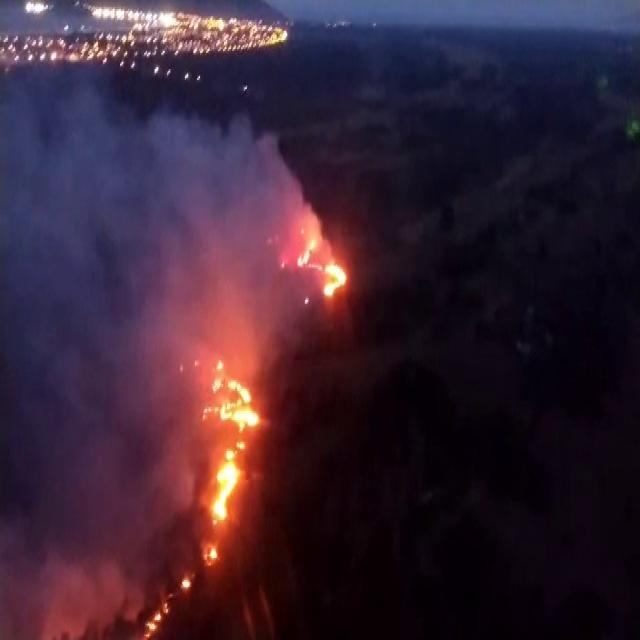Fire: (210, 356, 258, 529), (144, 549, 219, 633), (296, 232, 346, 300)
Smoke: (0, 72, 215, 472), (5, 58, 327, 231), (0, 514, 134, 640)
